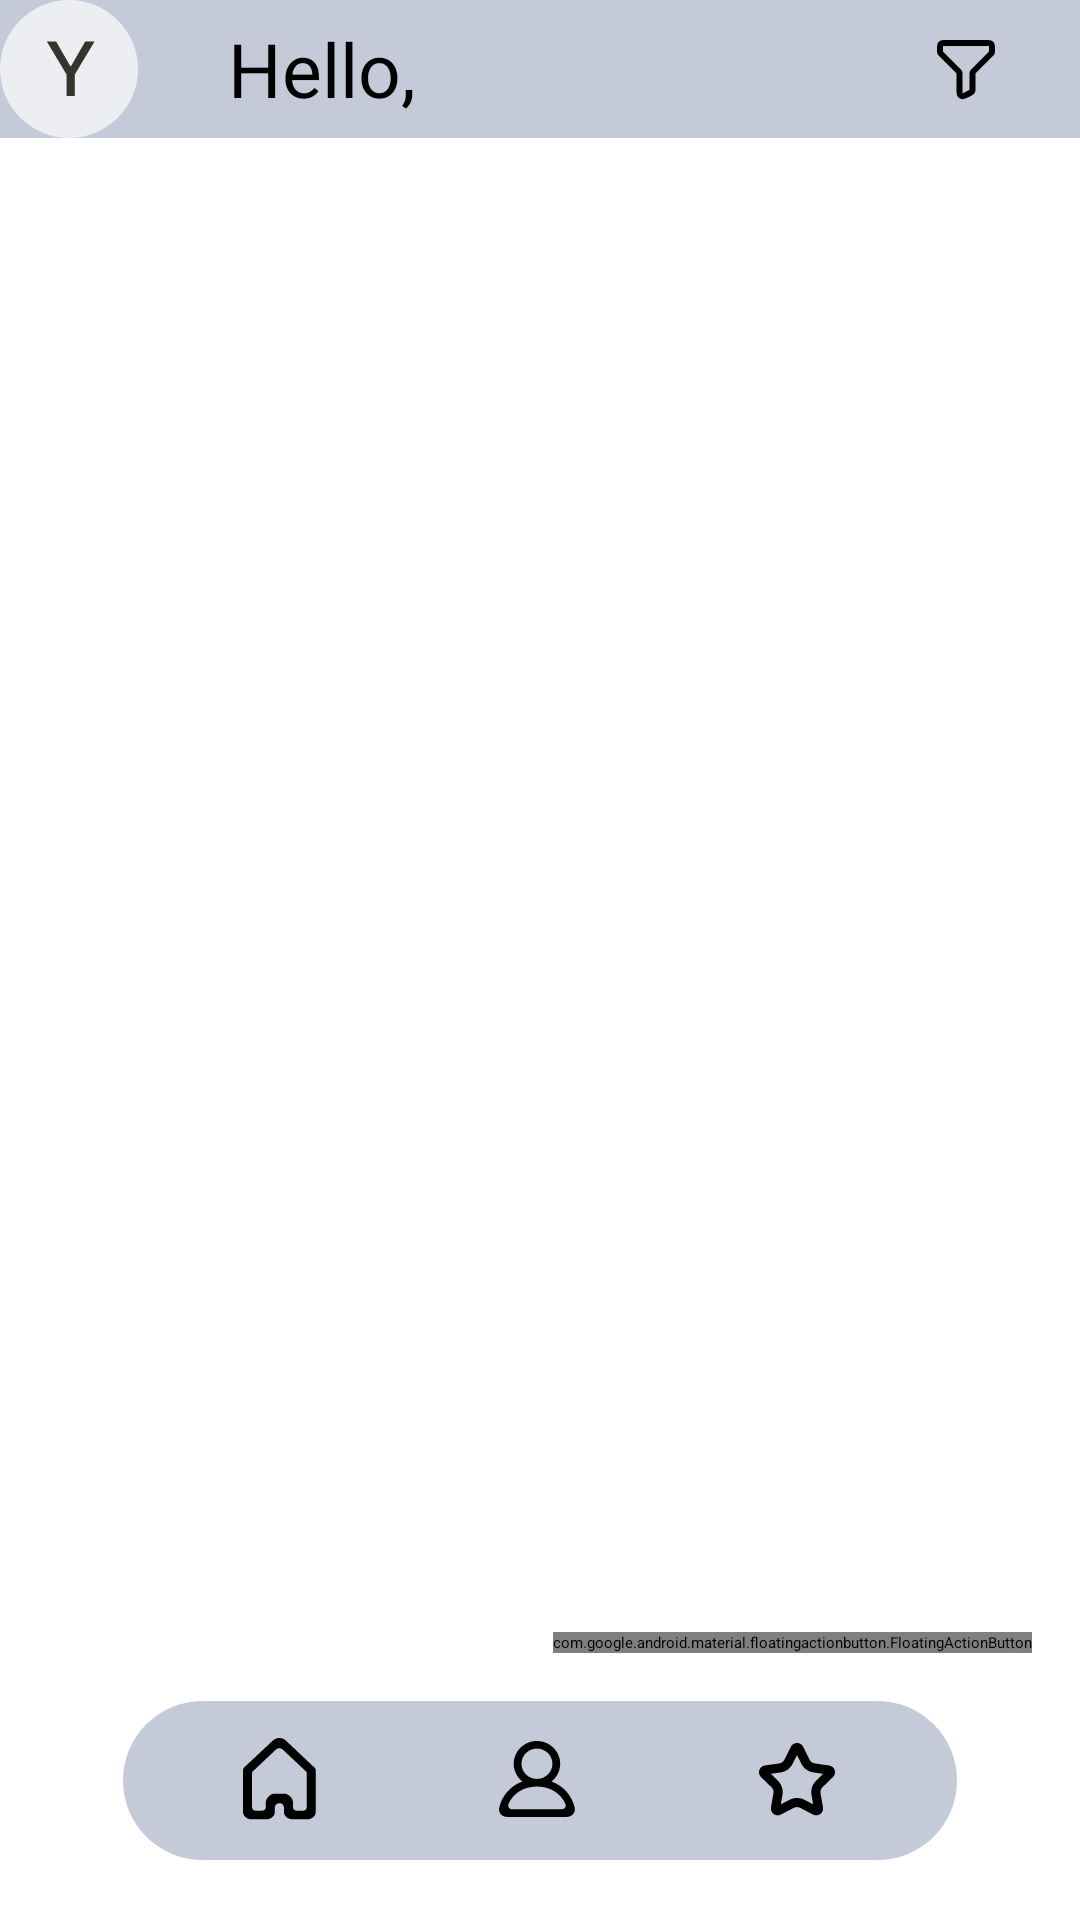

Named icons in this screenshot (1080 x 1920) and their centers, (x,y):
filter: (966,70)
home: (279,1779)
